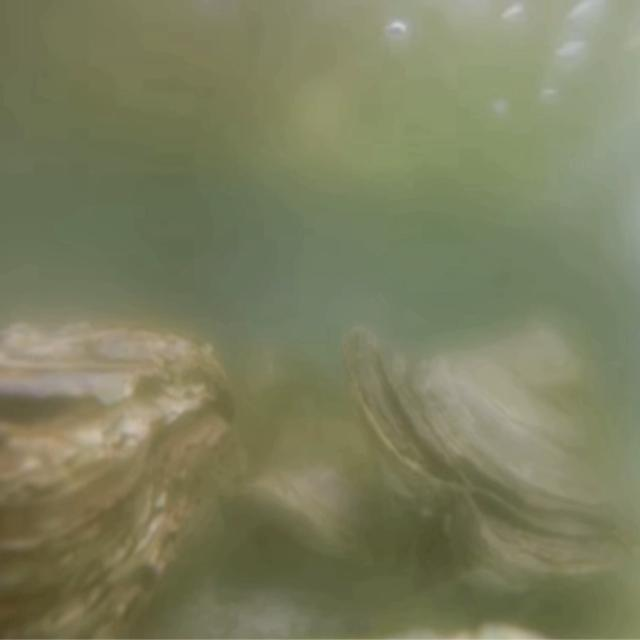Oyster-Closed: (341, 321, 635, 601), (0, 319, 253, 640)
Oyster-Indeterminate: (240, 413, 386, 570)
